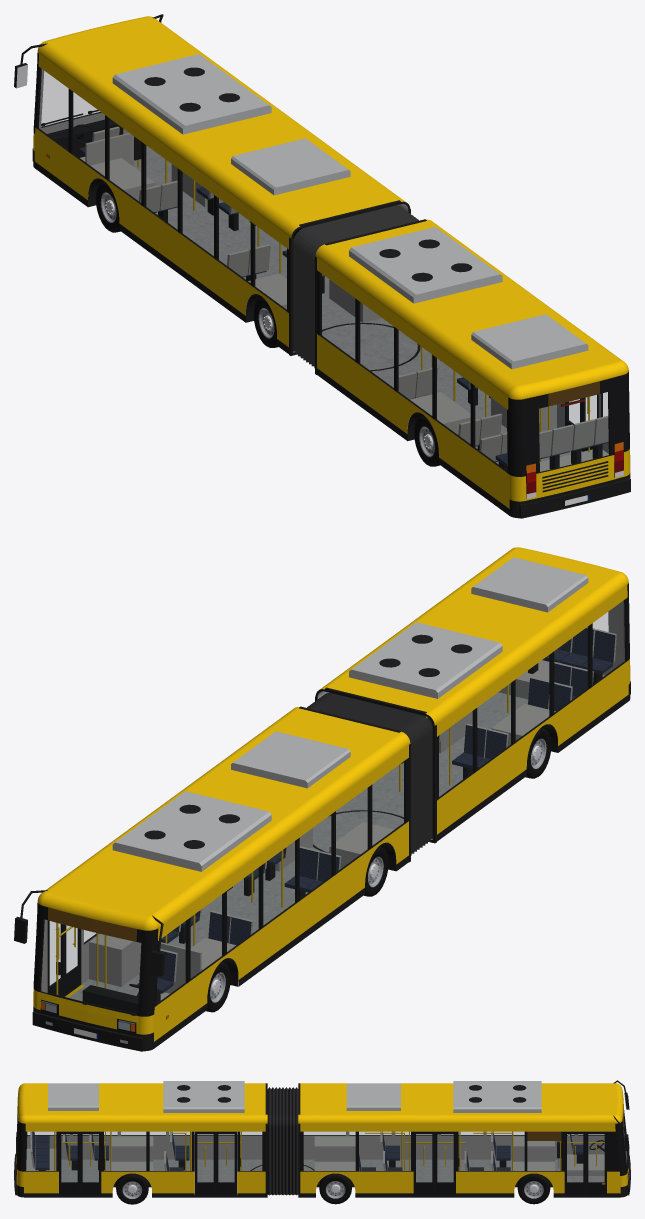
Rendered from bus_articulated.glb.
The picture shows the model from 3 angles, top to bottom: view 1: azimuth 30°, elevation 25°; view 2: azimuth 150°, elevation 25°; view 3: azimuth 270°, elevation 25°; orthographic projection. The views are drawn at different scales.
Parts seen in each view (by area): view 1: Front_Body, Rear_Body, Rear_Glass, Front_Glass, Front_Interior, Rear_Interior, Bellows_Mesh, Rear_Lights; view 2: Front_Body, Rear_Body, Front_Glass, Front_Interior, Rear_Interior, Rear_Glass, Bellows_Mesh, Front_Lights, Door_1_L, Door_1_R; view 3: Front_Body, Rear_Body, Front_Interior, Rear_Interior, Front_Glass, Rear_Glass, Bellows_Mesh, Door_1_L, Door_2_L, Door_4_L, Door_4_R, Door_3_L (+10 smaller).
Part boxes in pixels (left/top/right/bottom): Front_Body: left=14, top=14, right=410, bottom=355; Rear_Body: left=315, top=219, right=630, bottom=518; Rear_Glass: left=320, top=273, right=609, bottom=472; Front_Glass: left=37, top=68, right=286, bottom=310; Front_Interior: left=39, top=69, right=408, bottom=352; Rear_Interior: left=371, top=346, right=608, bottom=471; Bellows_Mesh: left=293, top=205, right=420, bottom=371; Rear_Lights: left=526, top=381, right=623, bottom=493; Front_Body: left=14, top=706, right=410, bottom=1051; Rear_Body: left=315, top=547, right=630, bottom=843; Front_Glass: left=40, top=761, right=405, bottom=1014; Front_Interior: left=41, top=822, right=396, bottom=1001; Rear_Interior: left=317, top=600, right=624, bottom=839; Rear_Glass: left=439, top=600, right=626, bottom=797; Bellows_Mesh: left=307, top=692, right=432, bottom=855; Front_Lights: left=41, top=907, right=168, bottom=1043; Door_1_L: left=64, top=925, right=81, bottom=996; Door_1_R: left=47, top=920, right=64, bottom=996; Front_Body: left=298, top=1080, right=630, bottom=1197; Rear_Body: left=14, top=1081, right=267, bottom=1197; Front_Interior: left=303, top=1123, right=627, bottom=1182; Rear_Interior: left=26, top=1131, right=262, bottom=1194; Front_Glass: left=304, top=1117, right=627, bottom=1171; Rear_Glass: left=26, top=1132, right=261, bottom=1171; Bellows_Mesh: left=250, top=1087, right=314, bottom=1195; Door_1_L: left=564, top=1131, right=585, bottom=1195; Door_2_L: left=413, top=1131, right=434, bottom=1195; Door_4_L: left=59, top=1131, right=80, bottom=1195; Door_4_R: left=80, top=1131, right=101, bottom=1195; Door_3_L: left=195, top=1131, right=216, bottom=1195.
Size of the model in its own units: 3.16 by 3.05 by 18.18.
Materials: 22 (3 with a texture image).
